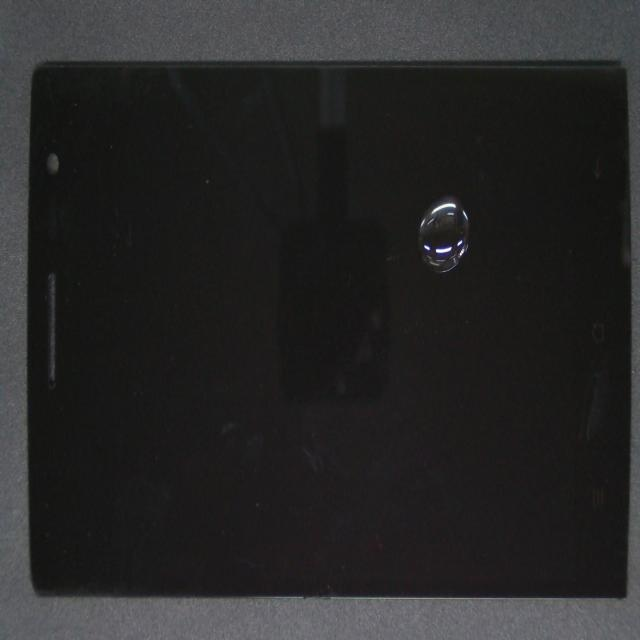oil: (248, 121, 640, 321)
